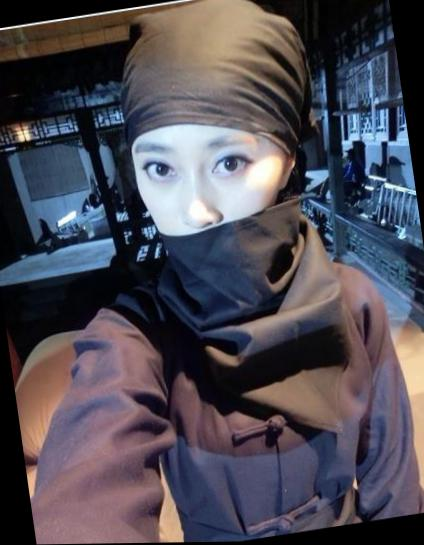WRONG: (120, 116, 292, 290)
